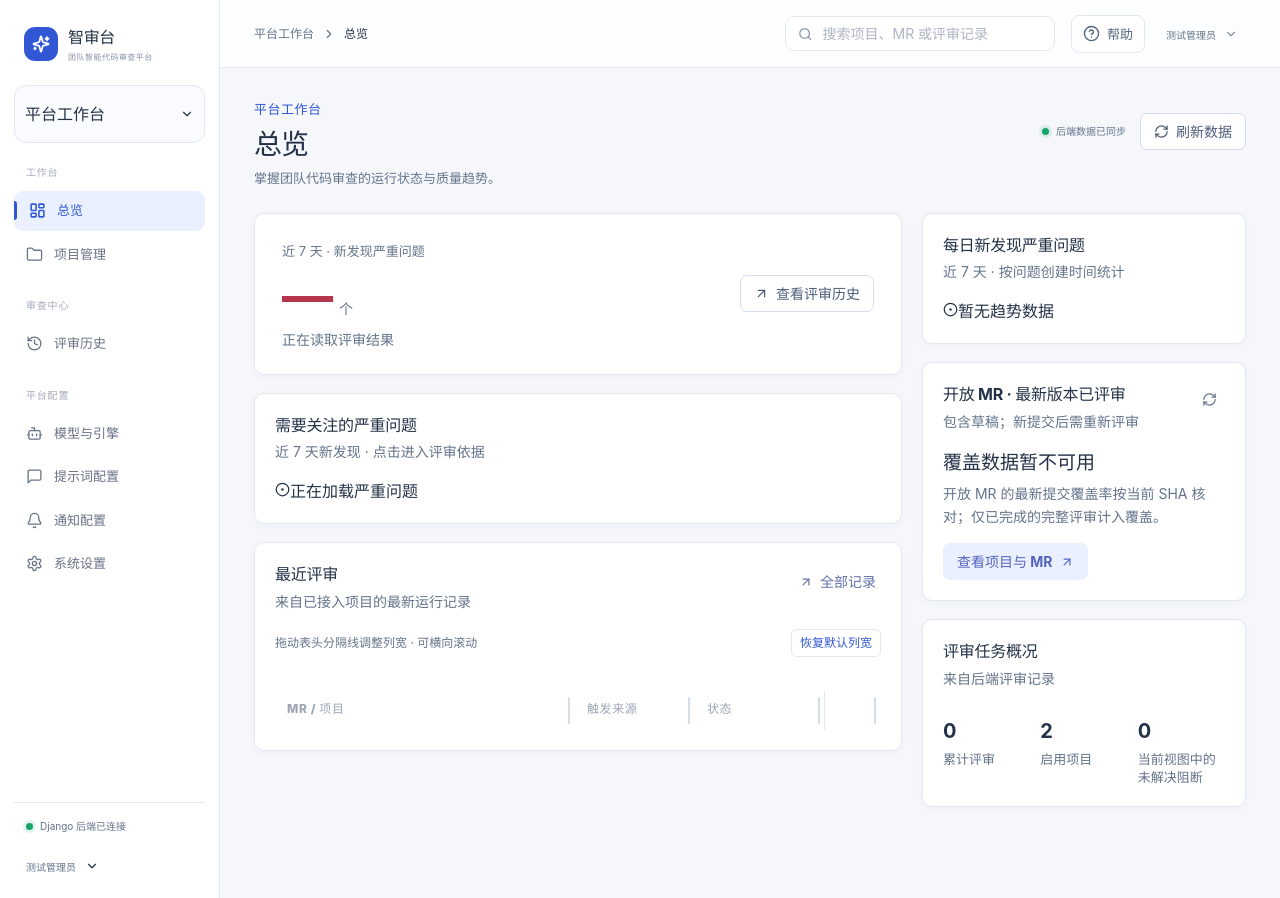
it: keeps 项目策略 unavailable after current project configuration fails to load
Check: the text "Django 后端已连接" is shown, box x1=26 y1=820 x2=126 y2=832
Click the button with aria-label "切换项目".
click(110, 114)  # box x1=14 y1=85 x2=205 y2=143
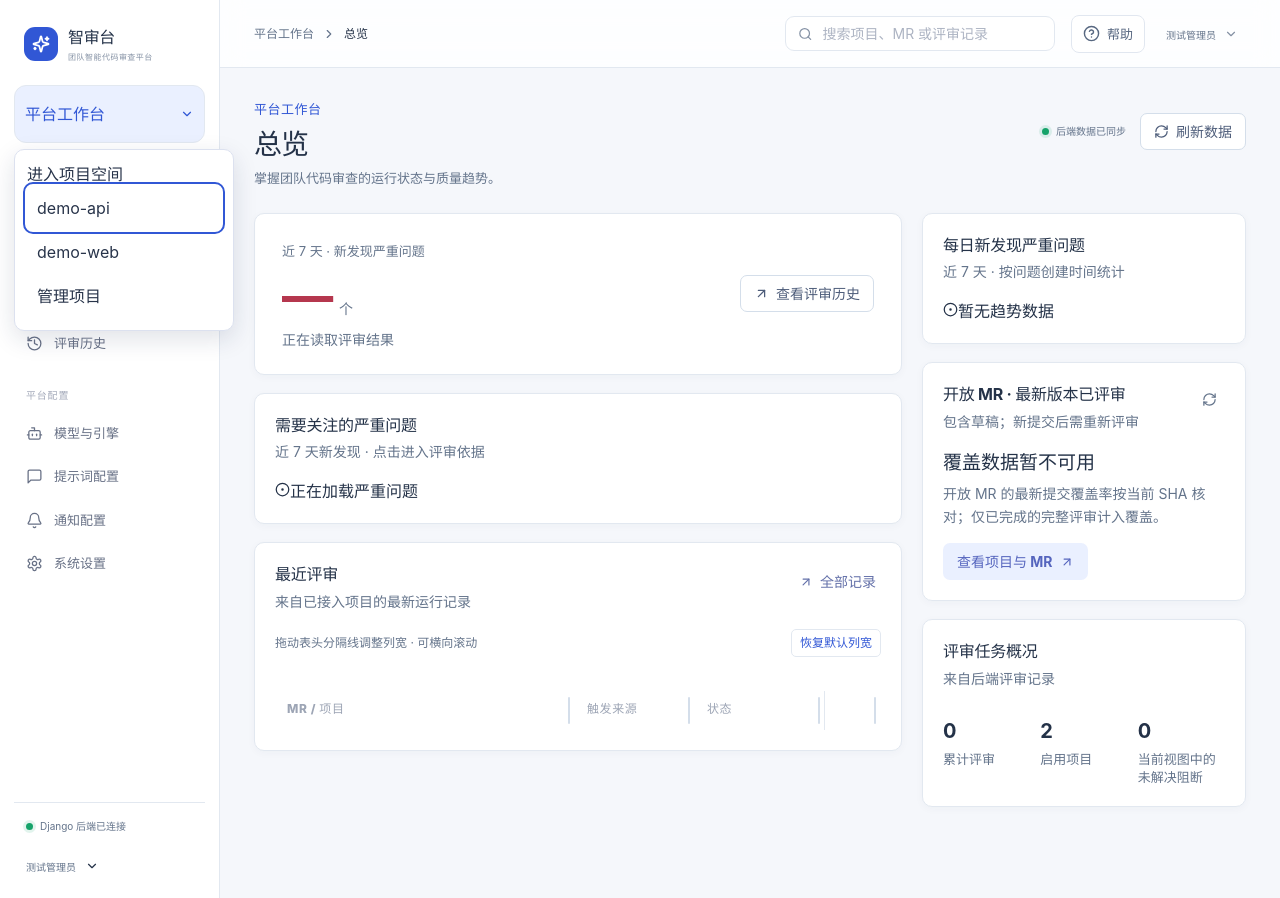
Click the button "demo-api".
click(124, 208)  # box x1=27 y1=186 x2=221 y2=230
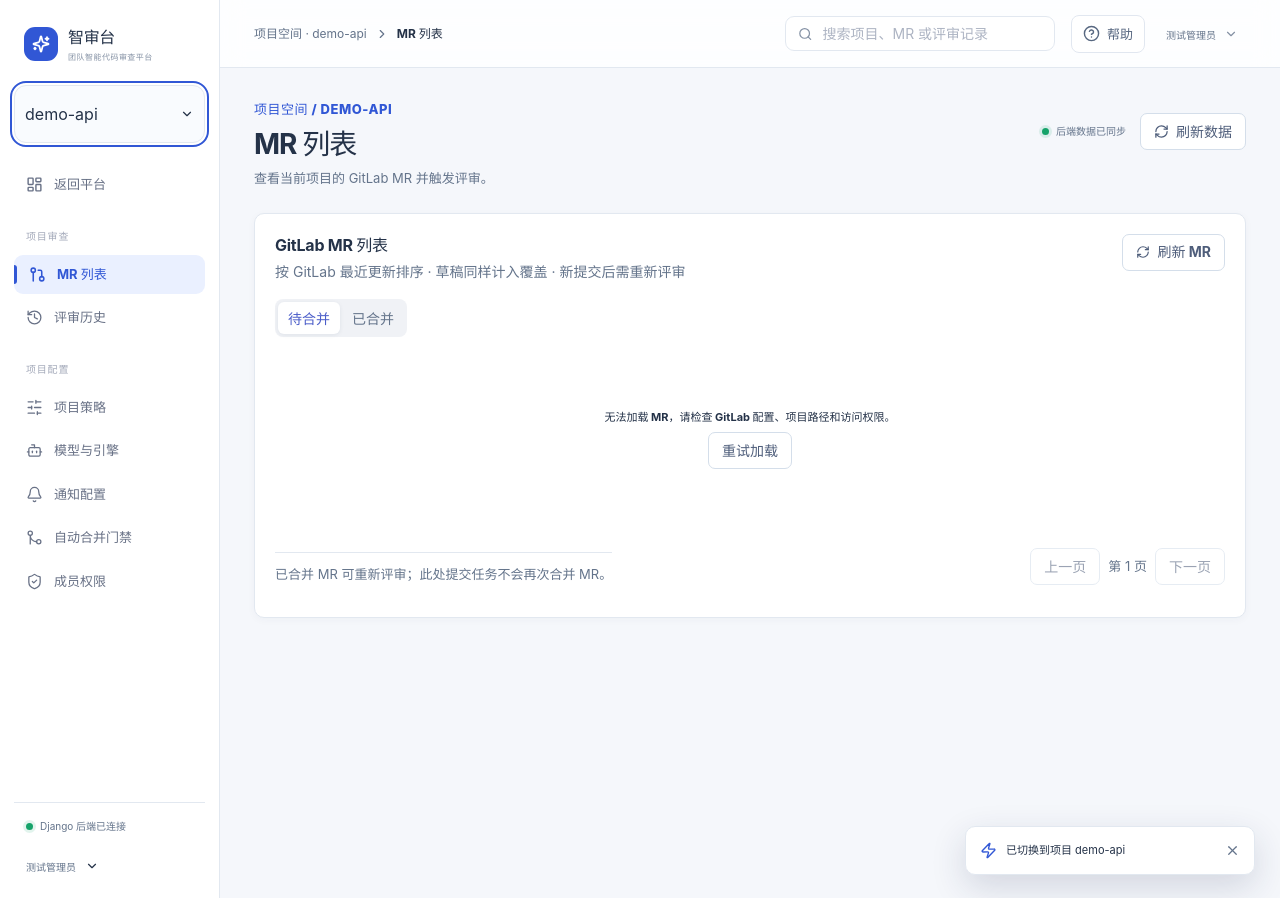
Click the button "项目策略".
click(110, 407)  # box x1=14 y1=388 x2=205 y2=427
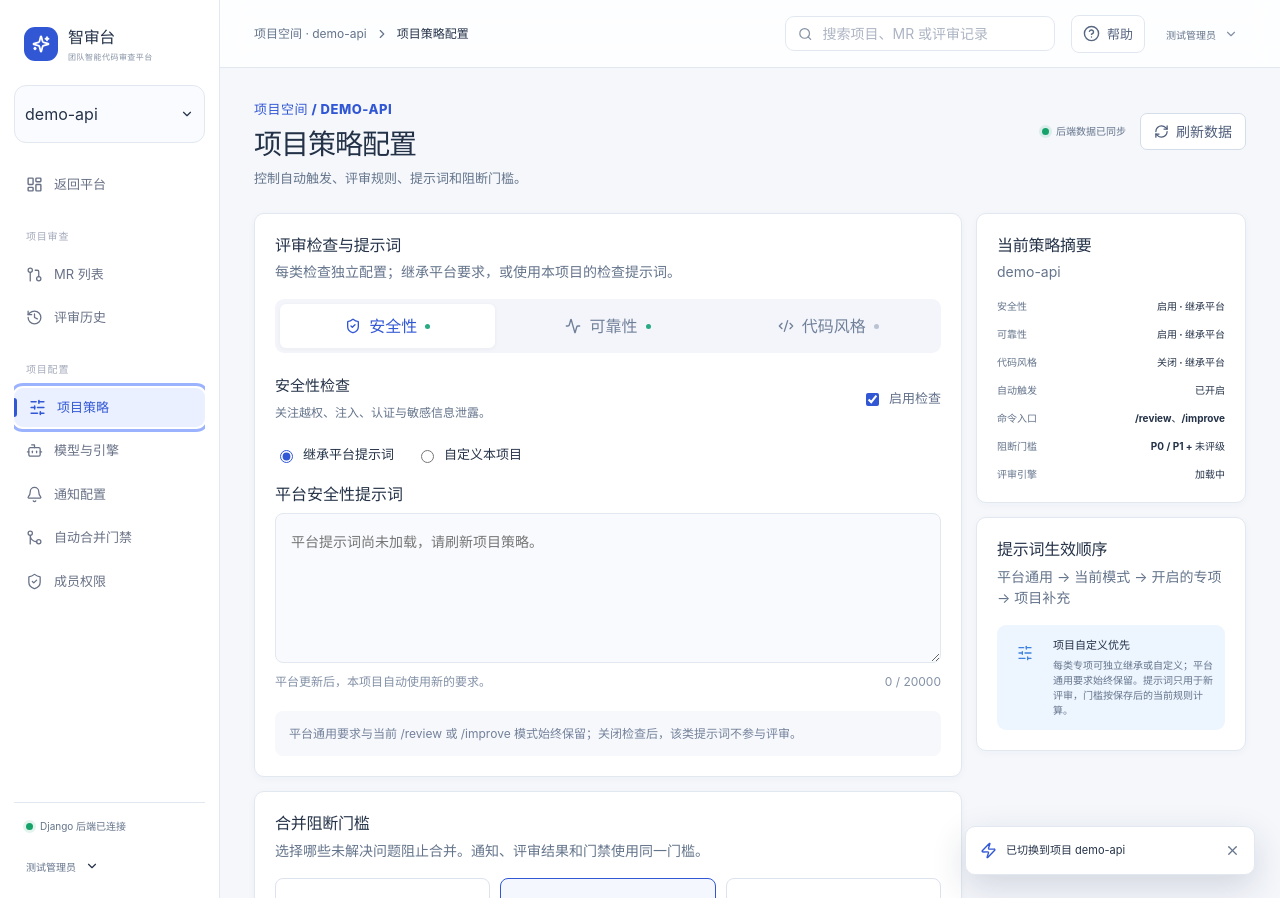
Click the button with aria-label "切换项目".
click(110, 114)  # box x1=14 y1=85 x2=205 y2=143
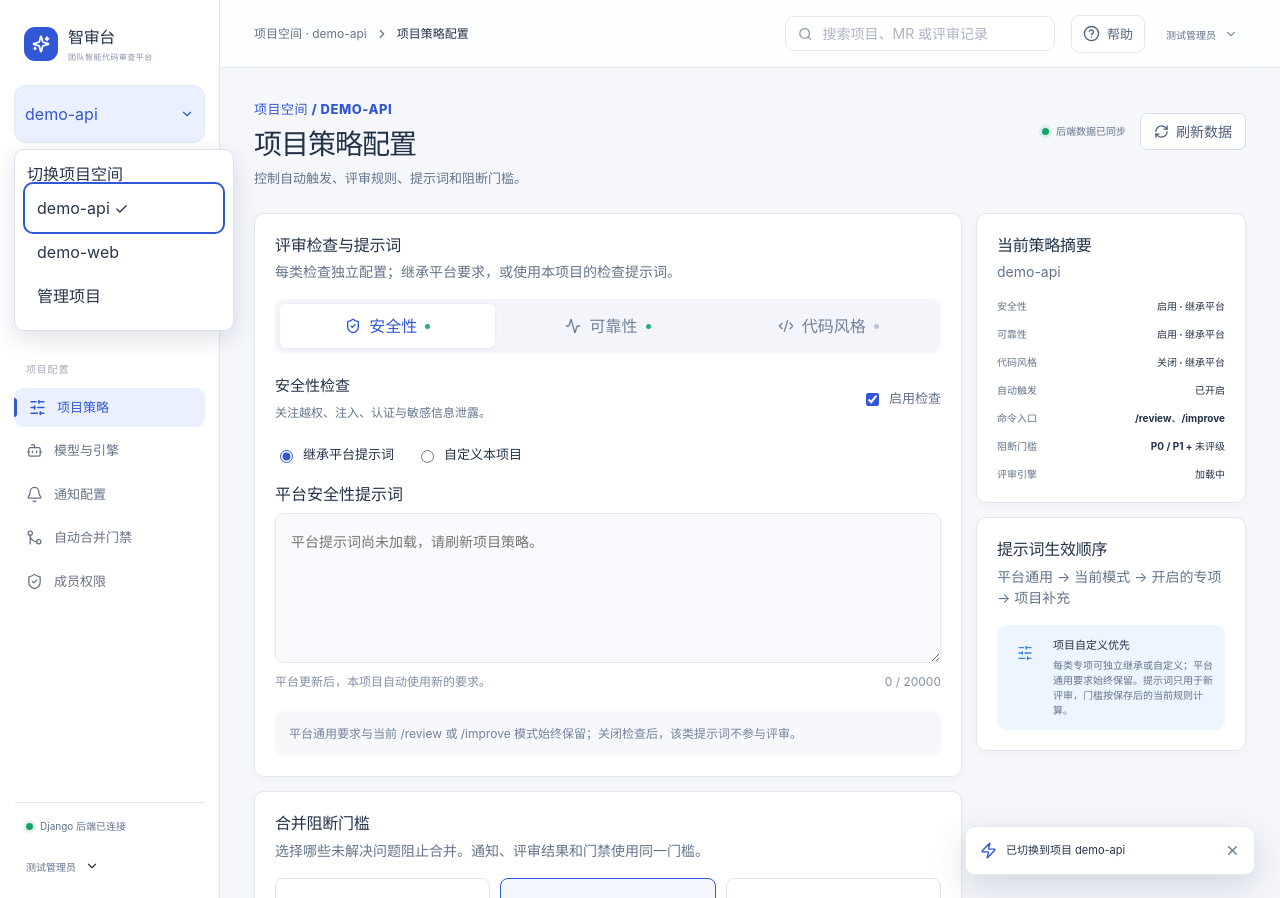
Click the button "demo-web".
click(124, 252)  # box x1=27 y1=230 x2=221 y2=274
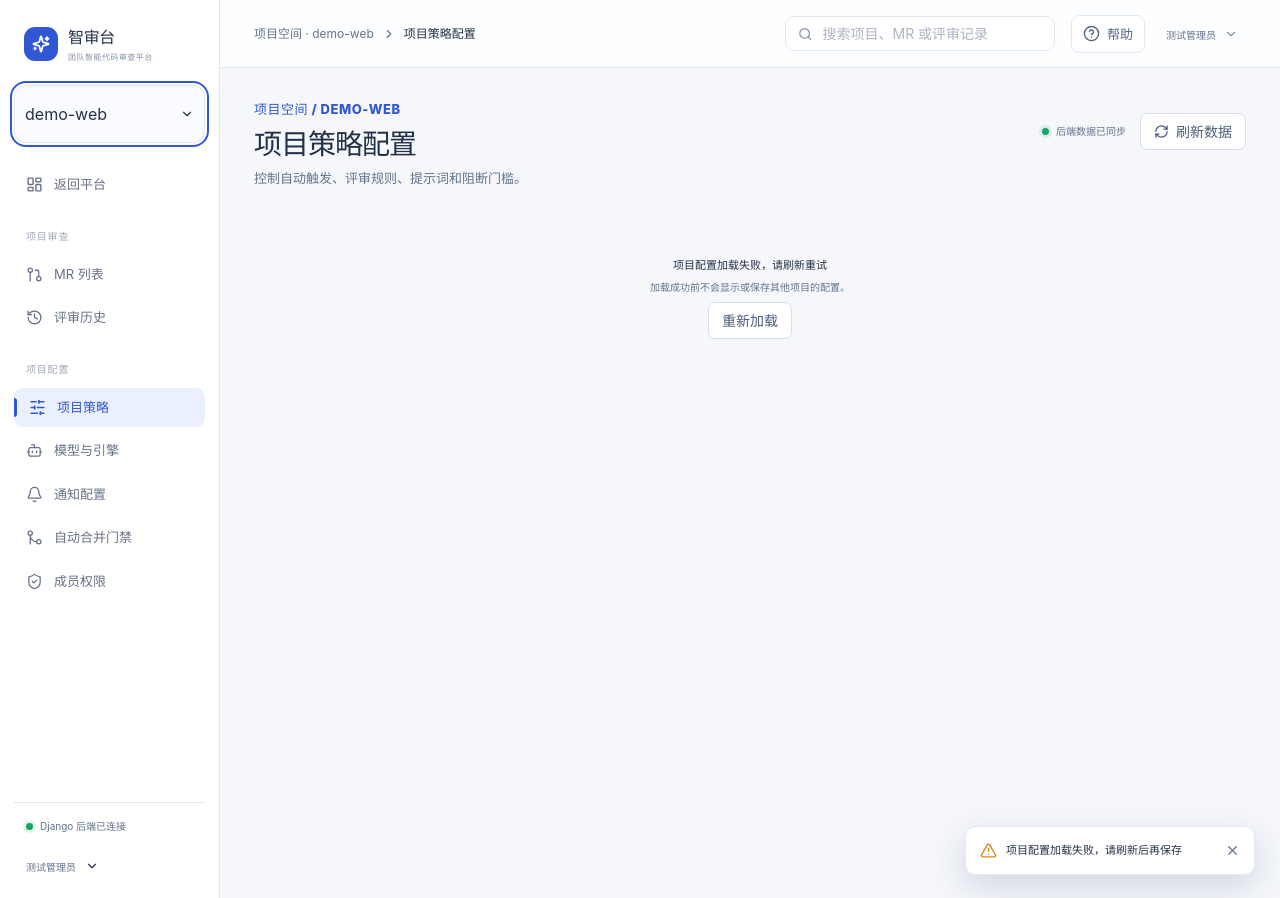
Check: the text "项目配置加载失败，请刷新重试" is shown, box x1=673 y1=256 x2=827 y2=273
